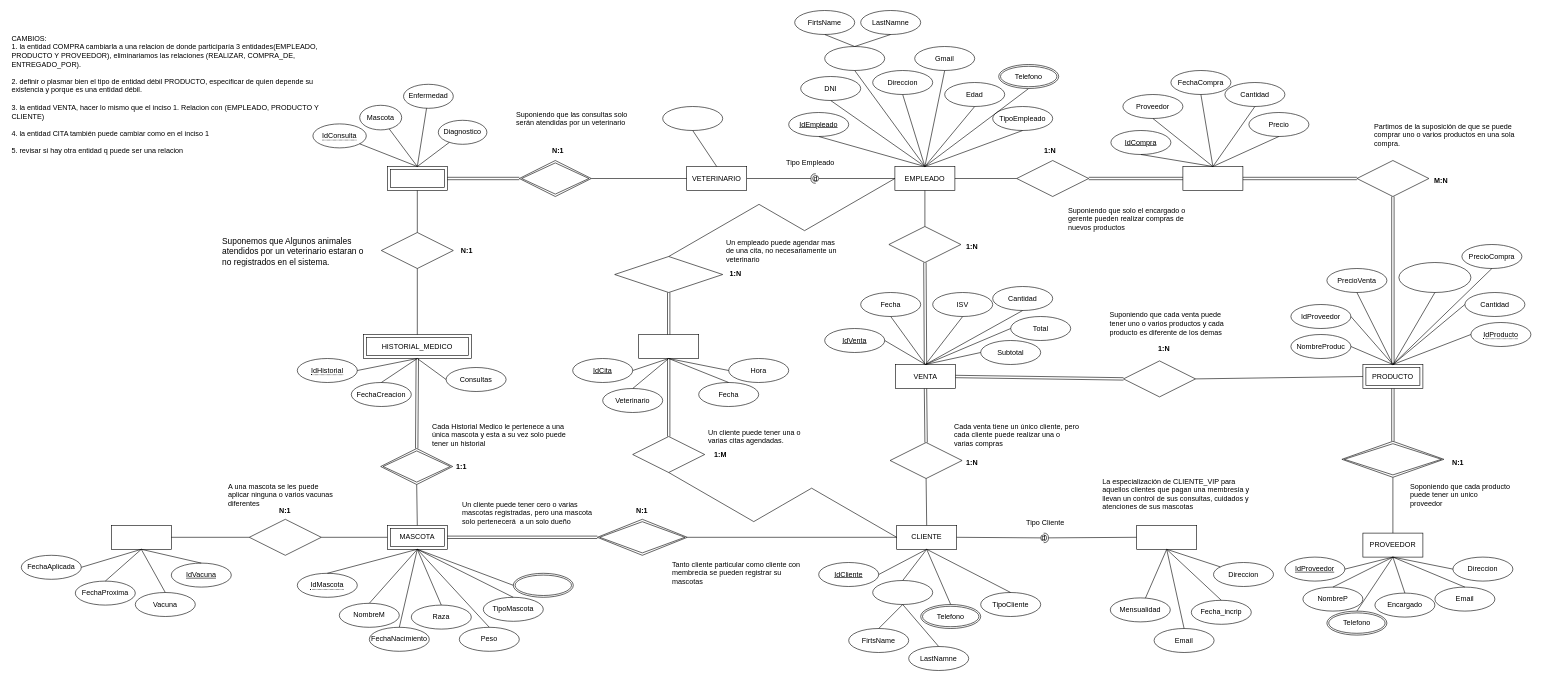
This 1541x681 diagram has some shape labels left out. The centre of each missing label's shape, as x and y in pixels:
AGENDADA_POR: the point at 668,274
APLICAR: the point at 285,537
CITA: the point at 668,346
CITA_DE: the point at 668,454
CLIENTE_VIP: the point at 1166,537
Color: the point at 543,585
COMPRA: the point at 1212,178
COMPRA_DE: the point at 1392,178
CONSULTA: the point at 417,178
ENTREGADO_POR: the point at 1392,459
FechaVencimiento: the point at 1434,277
MEDICO: the point at 555,178
Nombre: the point at 854,58
NombreCliente: the point at 902,592
PERTENECE: the point at 416,466
PERTENECE_A: the point at 642,537
REALIZAR: the point at 1052,178
REGISTRARA: the point at 417,250
Titulo: the point at 692,118
VACUNACION: the point at 141,537
VENDIDO: the point at 1159,378
VENDIDO_A: the point at 926,460
VENDIDO_POR: the point at 924,244
